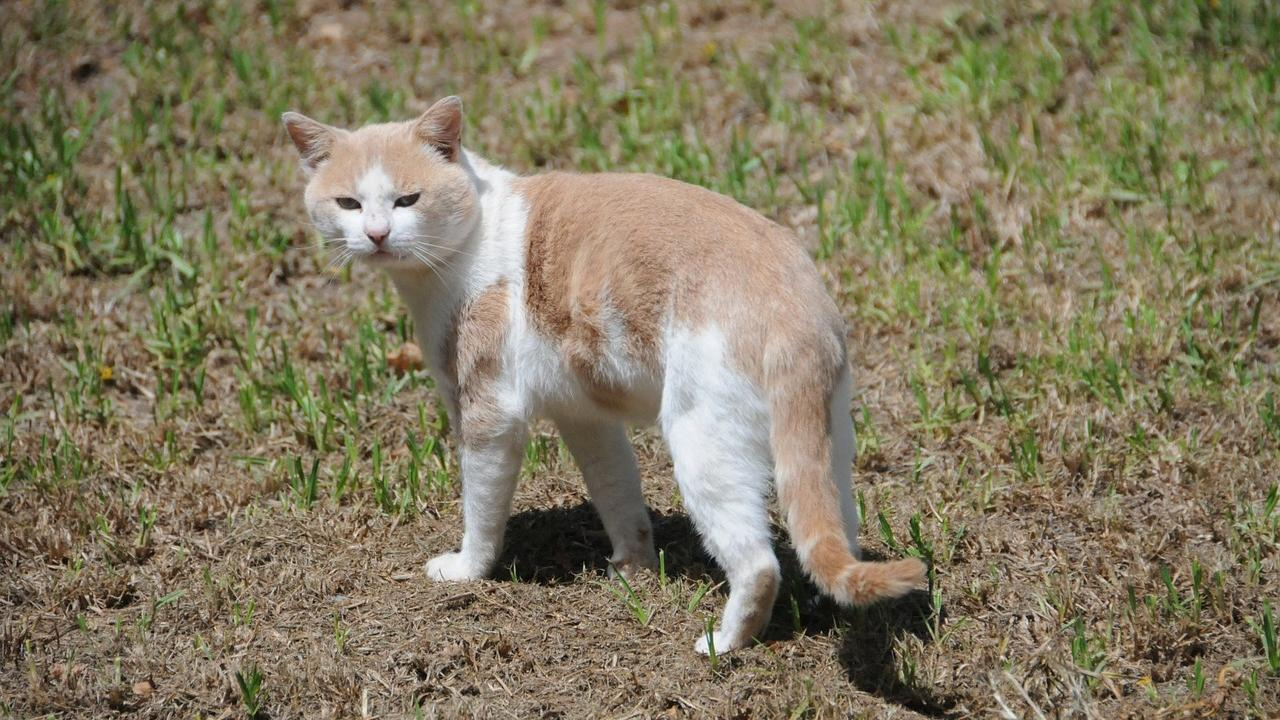Cat: (262, 76, 942, 676)
